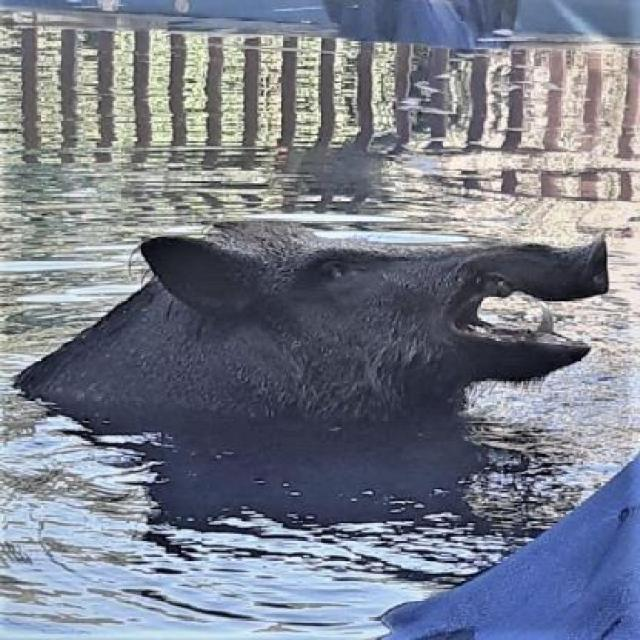wildboar: (8, 216, 615, 442)
